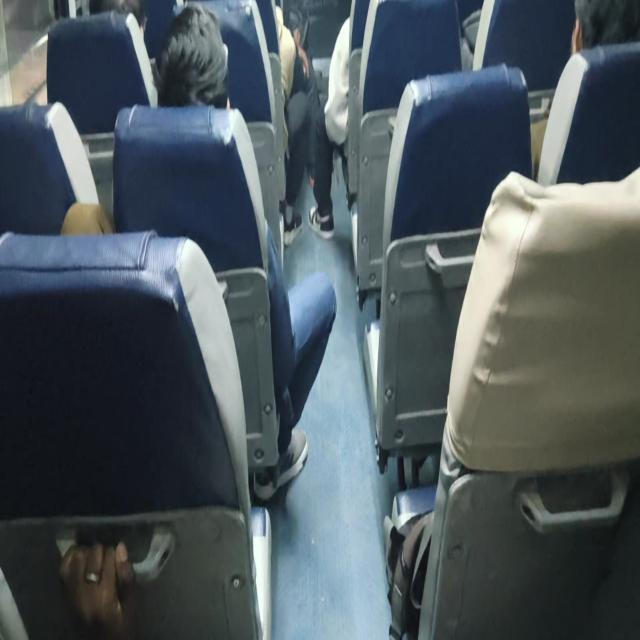person: (152, 8, 238, 120), (566, 0, 640, 55)
